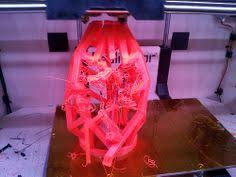fail: (77, 52, 145, 127), (62, 146, 131, 175), (140, 152, 164, 169)
